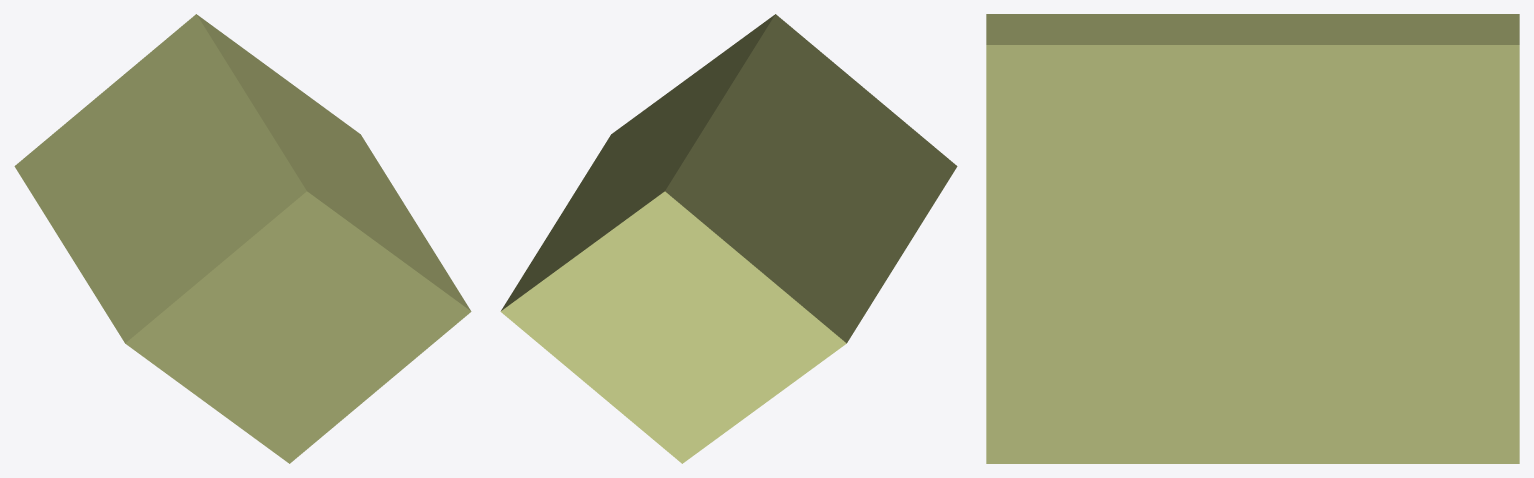
3 views of the same model, side by side, from view 1: azimuth 30°, elevation 25°; view 2: azimuth 150°, elevation 25°; view 3: azimuth 270°, elevation 25° (orthographic). The views are drawn at different scales.
Parts seen in each view (by area): view 1: 0_1_0_2_0_2_0_2_2_3; view 2: 0_1_0_2_0_2_0_2_2_3; view 3: 0_1_0_2_0_2_0_2_2_3.
Part boxes in pixels (x1,y1,x2,y2): 0_1_0_2_0_2_0_2_2_3: (14, 14, 471, 463); 0_1_0_2_0_2_0_2_2_3: (500, 14, 957, 463); 0_1_0_2_0_2_0_2_2_3: (986, 14, 1519, 463).
Bounding box in the file's own units: 9.24 × 9.42 × 9.
